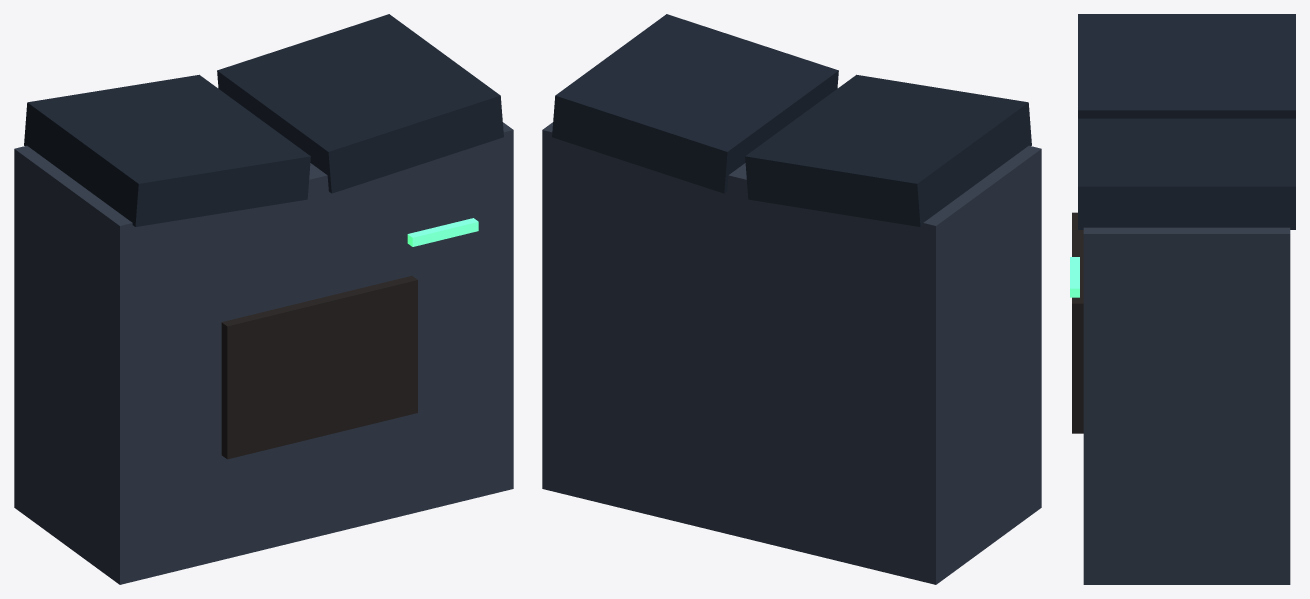
File: trash_compactor.glb
3 renders of one model, left to right at view 1: azimuth 30°, elevation 25°; view 2: azimuth 150°, elevation 25°; view 3: azimuth 270°, elevation 25°, orthographic. The views are drawn at different scales.
Parts seen in each view (by area): view 1: trash_compactor_body, trash_compactor_right_lid, trash_compactor_left_lid, trash_compactor_service_hatch, trash_compactor_capacity_sensor; view 2: trash_compactor_body, trash_compactor_right_lid, trash_compactor_left_lid; view 3: trash_compactor_body, trash_compactor_right_lid, trash_compactor_left_lid, trash_compactor_service_hatch, trash_compactor_capacity_sensor.
Part boxes in pixels (<box>): trash_compactor_body: <box>14,122,513,584</box>; trash_compactor_right_lid: <box>217,14,503,193</box>; trash_compactor_left_lid: <box>24,74,310,226</box>; trash_compactor_service_hatch: <box>221,276,417,459</box>; trash_compactor_capacity_sensor: <box>407,218,478,246</box>; trash_compactor_body: <box>542,122,1041,584</box>; trash_compactor_right_lid: <box>552,14,838,193</box>; trash_compactor_left_lid: <box>745,74,1031,226</box>; trash_compactor_body: <box>1083,227,1290,584</box>; trash_compactor_right_lid: <box>1078,118,1295,229</box>; trash_compactor_left_lid: <box>1078,14,1295,118</box>; trash_compactor_service_hatch: <box>1072,212,1083,433</box>; trash_compactor_capacity_sensor: <box>1070,257,1079,297</box>.
Size of the model in its own units: 1.55 by 1.5 by 0.7875.
